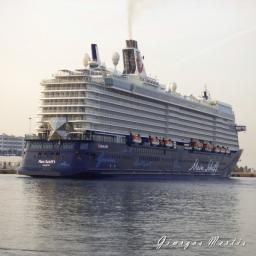cruises: (16, 38, 248, 180)
